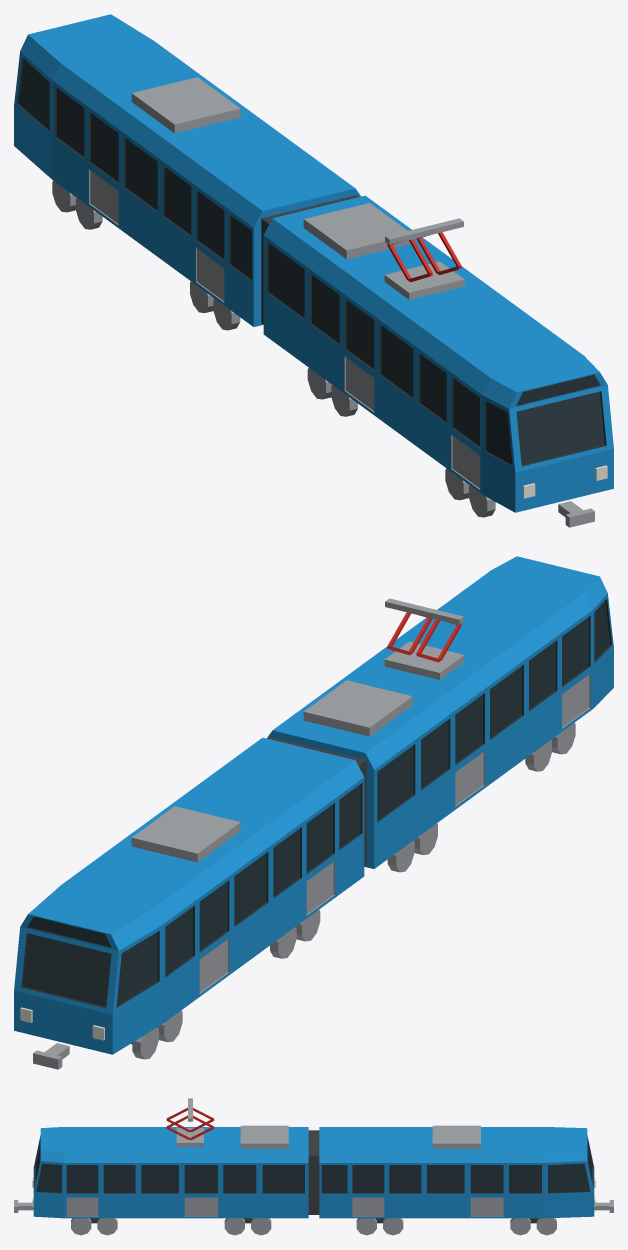
File: maqueta_tren_ligero.fbx
The picture shows the model from 3 angles, top to bottom: view 1: azimuth 30°, elevation 25°; view 2: azimuth 150°, elevation 25°; view 3: azimuth 270°, elevation 25°; orthographic projection. The views are drawn at different scales.
Visible parts, largest first — view 1: maqueta_tren_ligero; view 2: maqueta_tren_ligero; view 3: maqueta_tren_ligero.
Boxes of the visible parts, box(x1,y1,x2,y2) form: maqueta_tren_ligero: box(14, 14, 613, 527); maqueta_tren_ligero: box(14, 556, 613, 1069); maqueta_tren_ligero: box(14, 1098, 613, 1235).
Size of the model in its own units: 0.1095 by 0.1942 by 0.92.
